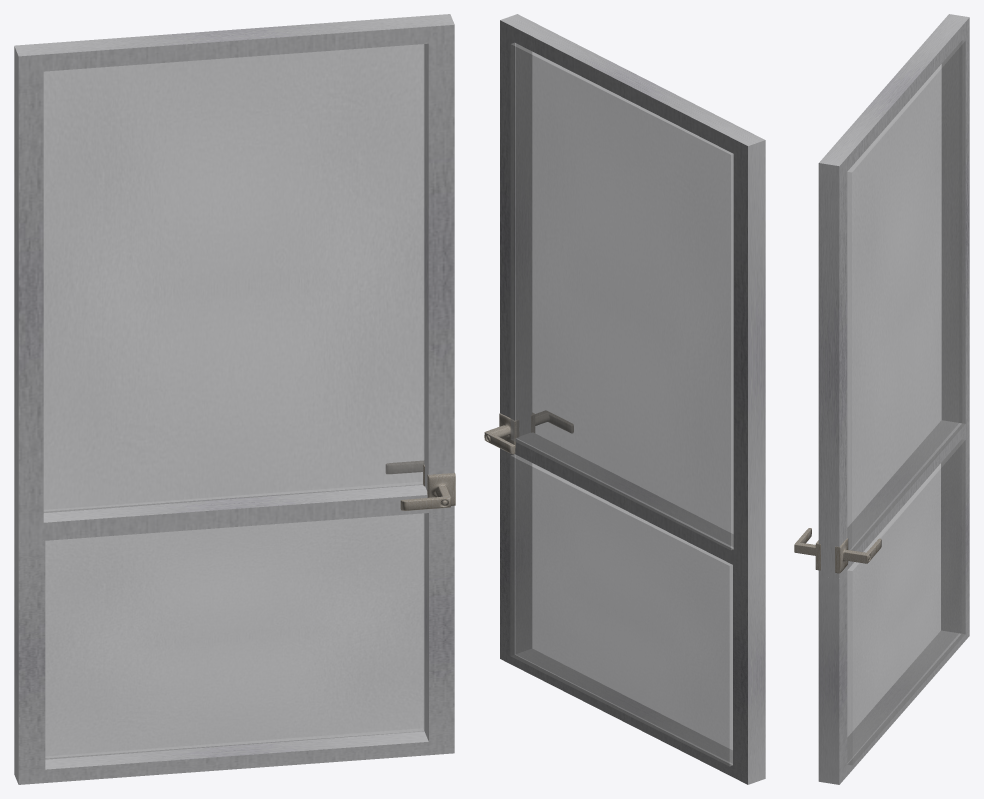
Rendered from puertaOLD.obj.
3 views of the same model, side by side, from view 1: azimuth 30°, elevation 25°; view 2: azimuth 150°, elevation 25°; view 3: azimuth 270°, elevation 25° (orthographic). The views are drawn at different scales.
Visible parts, largest first — view 1: Puerta; view 2: Puerta; view 3: Puerta.
Part boxes in pixels (box(x1,y1,x2,y2)): Puerta: box(14, 14, 455, 784); Puerta: box(484, 14, 765, 784); Puerta: box(794, 14, 969, 784).
Size of the model in its own units: 17.37 by 32.81 by 8.43.
Materials: 3 (3 with a texture image).
